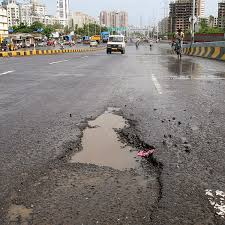pothole: (60, 91, 167, 202)
